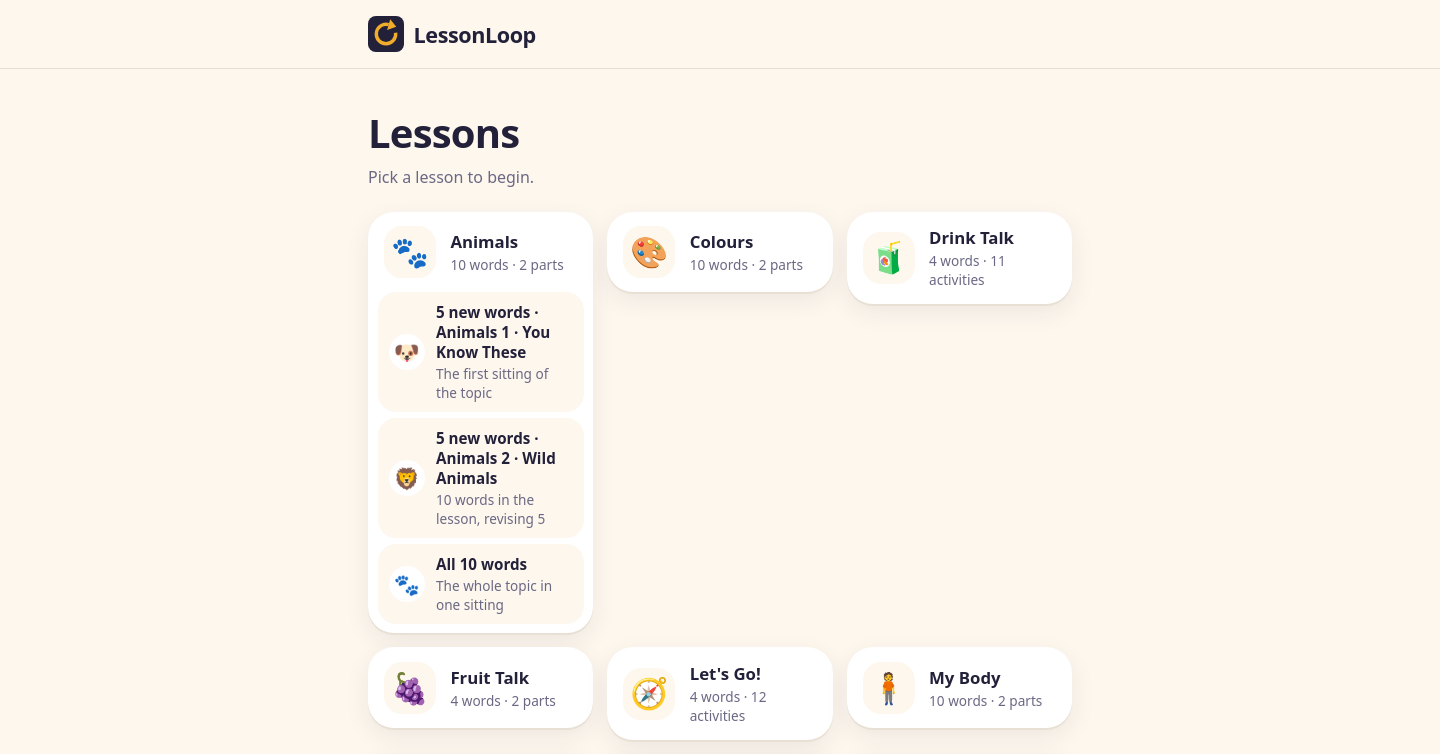
the sizes a topic offers › starts the lesson at the size that was tapped
Click the button that starts with "5 new words · Animals 2 · Wild Animals" at [481, 478], box left=378, top=418, right=584, bottom=538
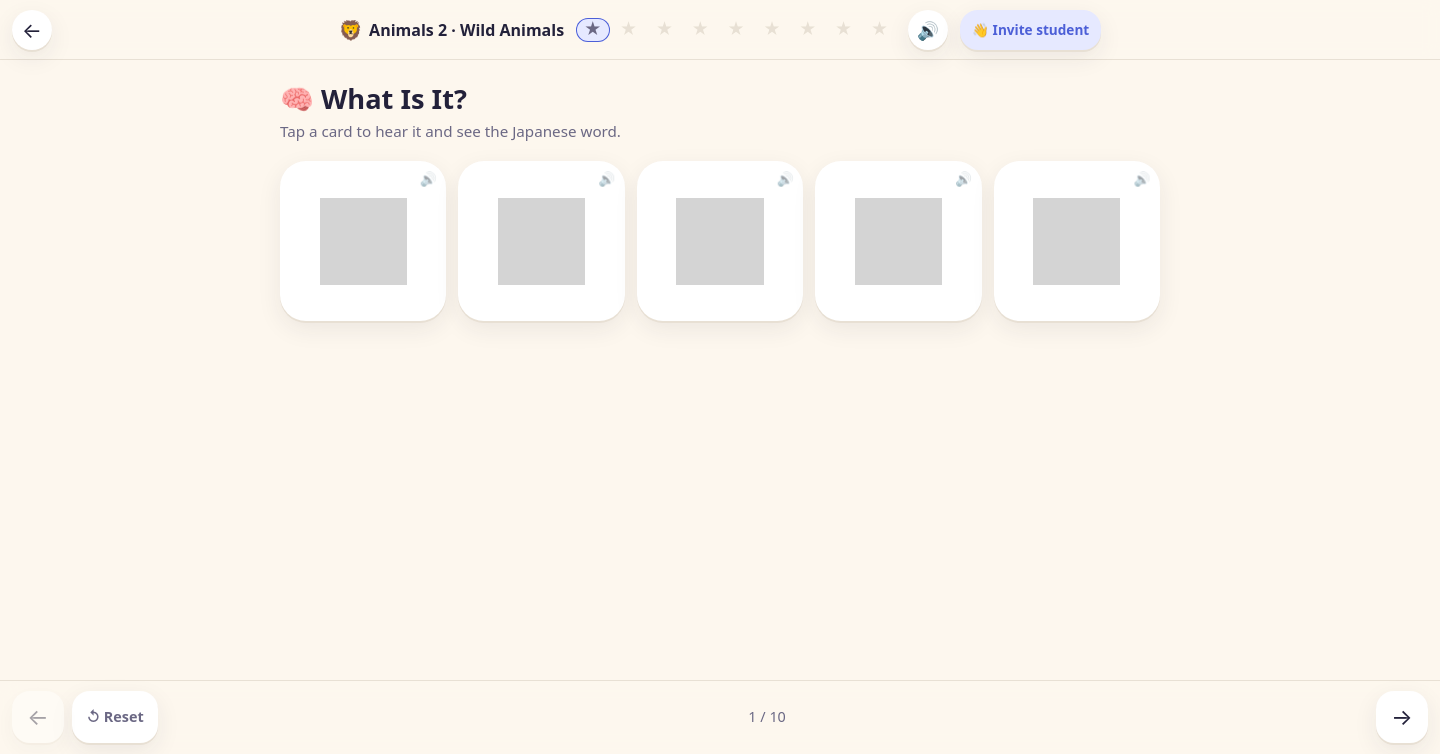
expect the text "Animals 2 · Wild Animals" is shown: met, box left=369, top=19, right=564, bottom=41
expect the text "🧠 What Is It?" is shown: met, box left=280, top=80, right=467, bottom=117
